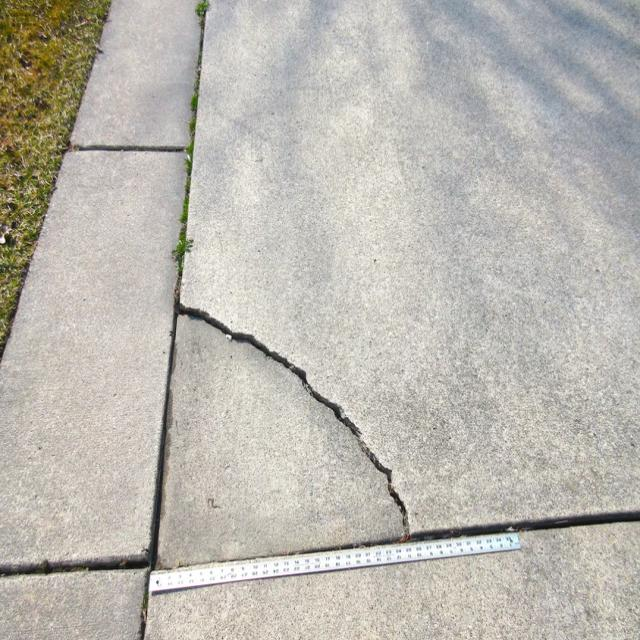Pothole: (6, 0, 281, 640)
